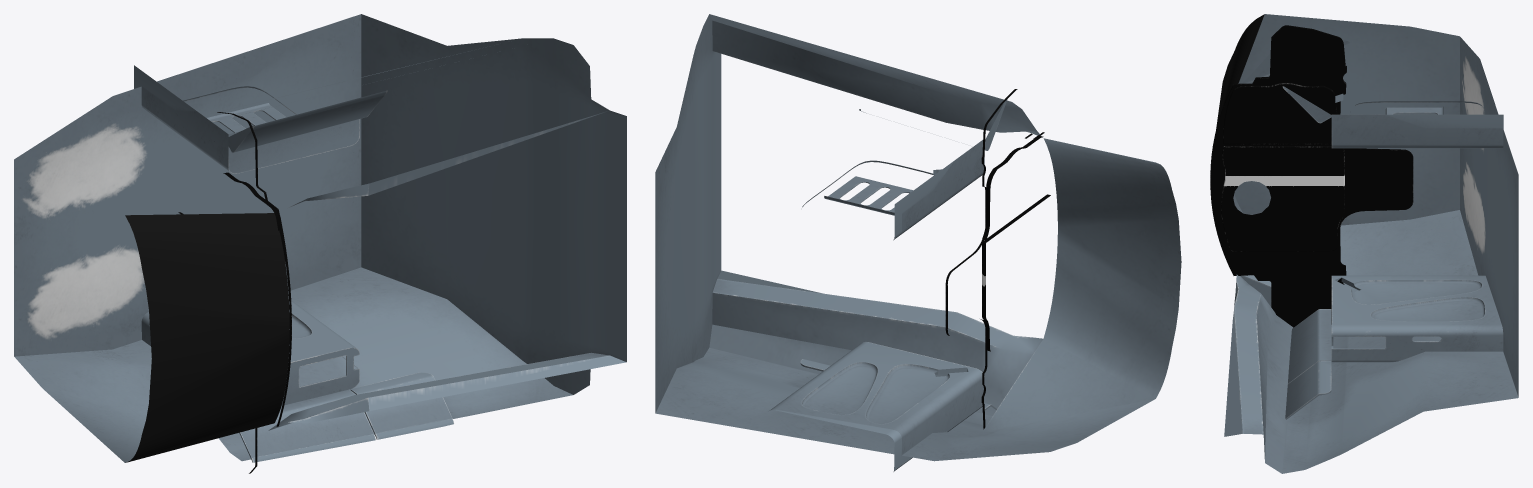
File: MiG-15bis-Cockpit.gltf
3 renders of one model, left to right at view 1: azimuth 30°, elevation 25°; view 2: azimuth 150°, elevation 25°; view 3: azimuth 270°, elevation 25°, orthographic. The views are drawn at different scales.
Visible parts, largest first — view 1: CP_CockpitWell, CP_CockpitWell.001, CP_RBox, CP_LPFar, CP_LBox, CP_LPNear, CP_RPan, PNL_LPlate; view 2: CP_CockpitWell, CP_LBox, CP_RBox, PNL_LPlate, PNL_LPlate.001; view 3: CP_CockpitWell, PNL_LPlate, CP_LBox, PNL_LPlate.001, CP_RBox, PNL_LPlate.002, CP_LPFar, CP_LPNear, CP_CockpitWell.001, CP_RPan.
Boxes of the visible parts, x1=… form: CP_CockpitWell: x1=14, y1=14, x2=626, y2=462; CP_CockpitWell.001: x1=125, y1=213, x2=289, y2=462; CP_RBox: x1=134, y1=65, x2=359, y2=173; CP_LPFar: x1=239, y1=389, x2=375, y2=462; CP_LBox: x1=141, y1=301, x2=359, y2=405; CP_LPNear: x1=350, y1=372, x2=454, y2=439; CP_RPan: x1=228, y1=90, x2=387, y2=152; PNL_LPlate: x1=178, y1=112, x2=291, y2=473; CP_CockpitWell: x1=655, y1=14, x2=1181, y2=461; CP_LBox: x1=769, y1=342, x2=984, y2=471; CP_RBox: x1=802, y1=140, x2=984, y2=240; PNL_LPlate: x1=945, y1=89, x2=1044, y2=429; PNL_LPlate.001: x1=982, y1=194, x2=1050, y2=351; CP_CockpitWell: x1=1224, y1=14, x2=1518, y2=473; PNL_LPlate: x1=1210, y1=25, x2=1413, y2=327; CP_LBox: x1=1331, y1=275, x2=1503, y2=362; PNL_LPlate.001: x1=1221, y1=146, x2=1344, y2=251; CP_RBox: x1=1331, y1=93, x2=1503, y2=148; PNL_LPlate.002: x1=1223, y1=82, x2=1337, y2=144; CP_LPFar: x1=1288, y1=309, x2=1331, y2=383; CP_LPNear: x1=1285, y1=361, x2=1331, y2=419; CP_CockpitWell.001: x1=1216, y1=14, x2=1264, y2=129; CP_RPan: x1=1282, y1=86, x2=1331, y2=123.
Size of the model in its own units: 1.5 by 1.06 by 0.9535.
Materials: 2 (2 with a texture image).
